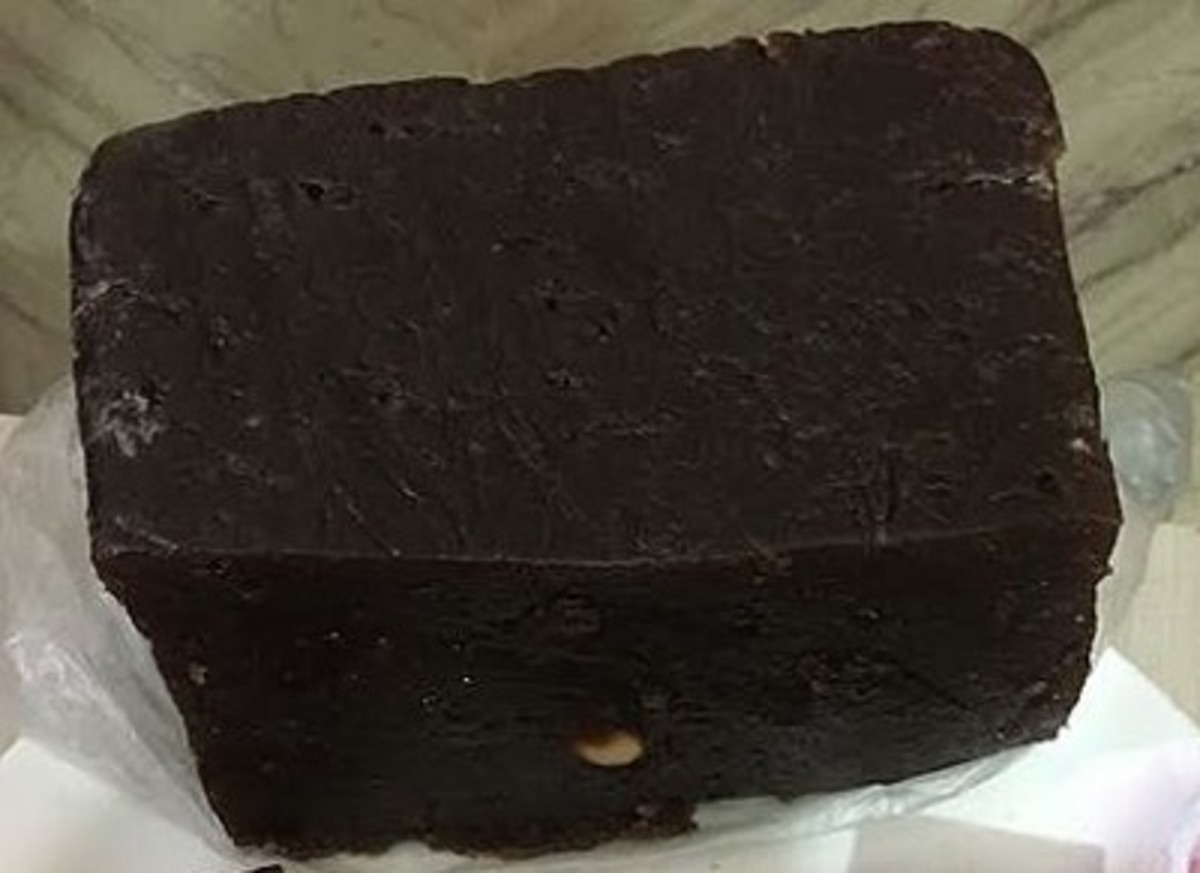dodol: (64, 17, 1127, 856)
